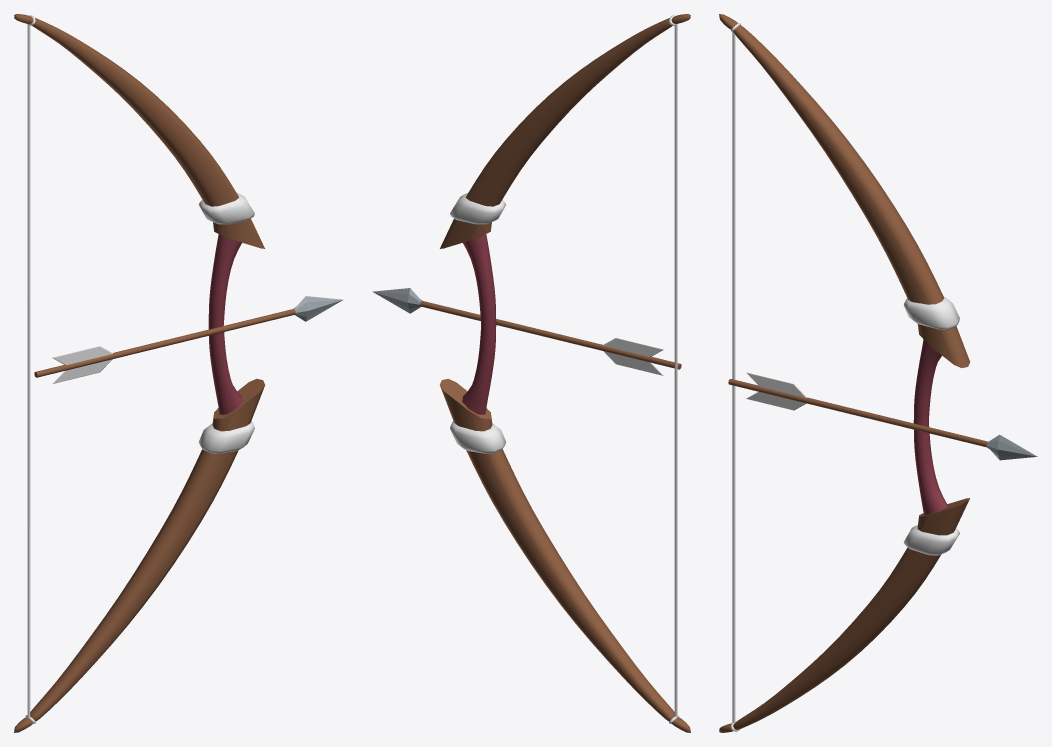
The model's file is Bow.fbx.
3 renders of one model, left to right at view 1: azimuth 30°, elevation 25°; view 2: azimuth 150°, elevation 25°; view 3: azimuth 330°, elevation 25°, orthographic.
Parts seen in each view (by area): view 1: Bow, Arrow, Bowstring; view 2: Bow, Arrow, Bowstring; view 3: Bow, Arrow, Bowstring.
Boxes of the visible parts, bbox=[...] form: Bow: bbox=[14, 14, 264, 732]; Arrow: bbox=[34, 296, 343, 383]; Bowstring: bbox=[25, 15, 35, 723]; Bow: bbox=[440, 14, 690, 732]; Arrow: bbox=[372, 288, 681, 375]; Bowstring: bbox=[669, 15, 678, 723]; Bow: bbox=[719, 14, 969, 732]; Arrow: bbox=[728, 372, 1037, 460]; Bowstring: bbox=[730, 23, 740, 731].
Bounding box in the file's own units: 0.4776 × 1.01 × 0.0447.
